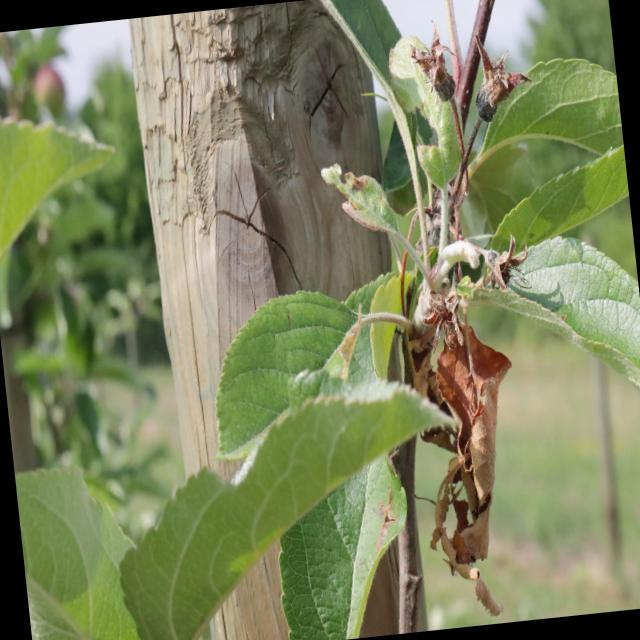-FireBlight-: (397, 241, 538, 625)
